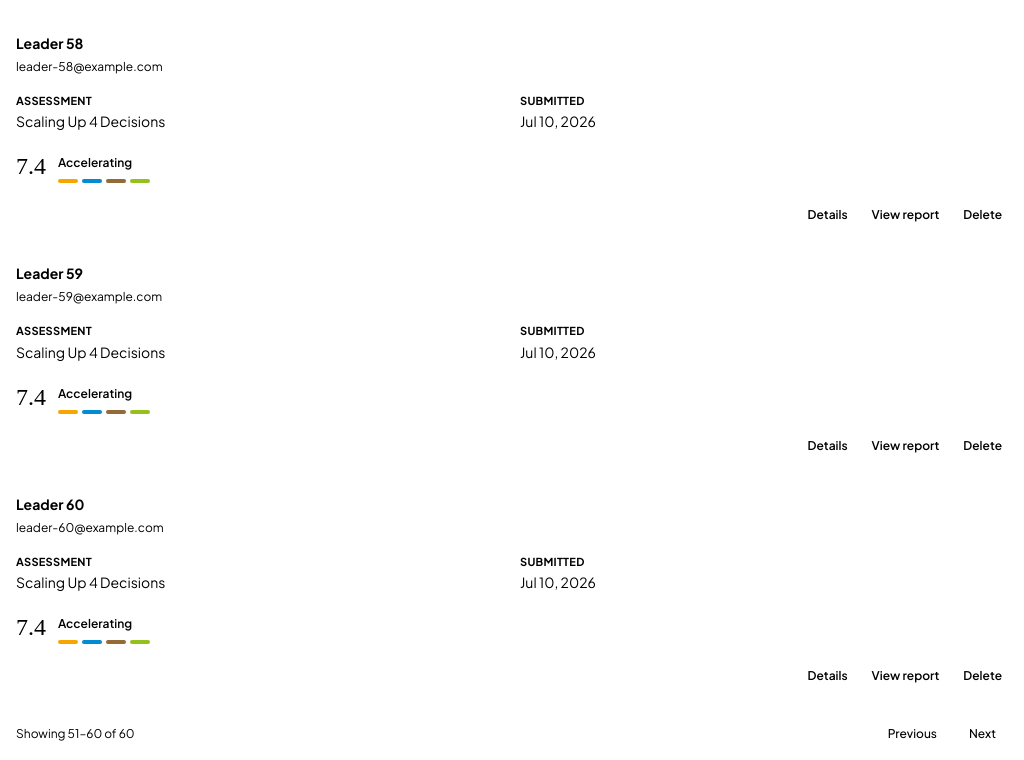
Test: ReferredResultsList › reloads page three from a shareable cursor trail and walks back without skips or duplicate fetches
This screenshot has width=1024, height=760.
(page scrolled)
Expected: the text "Showing 51–60 of 60" is shown, [16,726,135,742]
Click the button "Previous" at (912, 734), box [876,720,949,748]
(page scrolled)
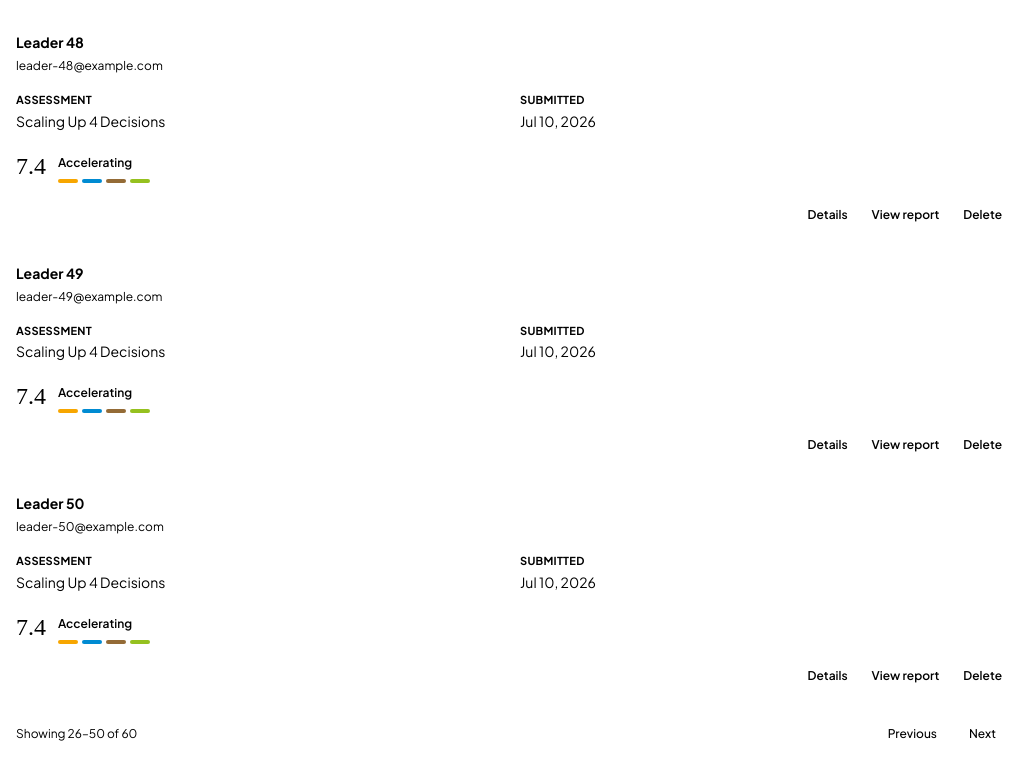
Expected: the text "Showing 26–50 of 60" is shown, [16,726,137,742]
Click the button "Previous" at (912, 734), box [876,720,949,748]
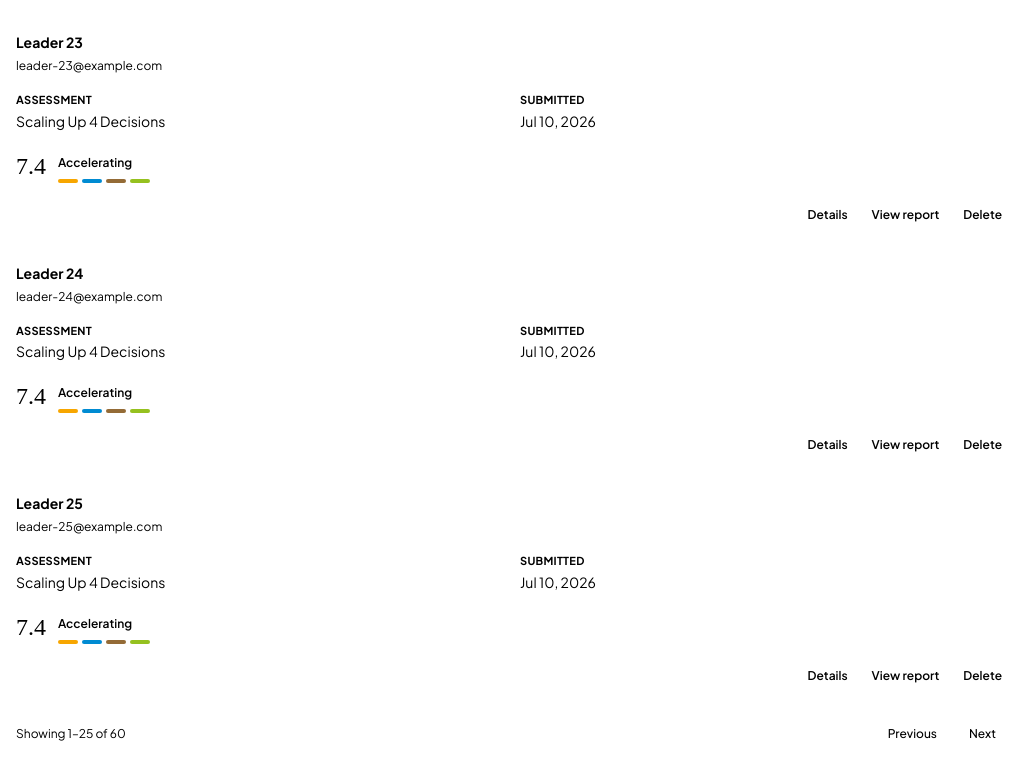
Expected: the text "Showing 1–25 of 60" is shown, [16,726,126,742]
